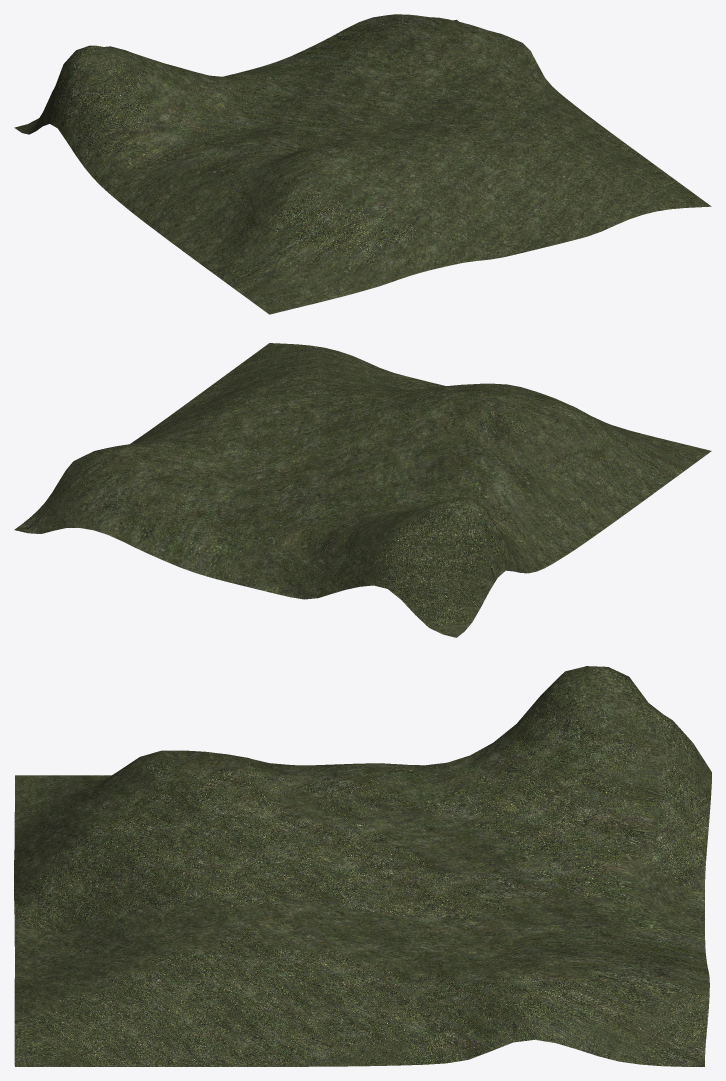
File: terrain.fbx
3 renders of one model, top to bottom at view 1: azimuth 30°, elevation 25°; view 2: azimuth 150°, elevation 25°; view 3: azimuth 270°, elevation 25°, orthographic. The views are drawn at different scales.
Parts seen in each view (by area): view 1: Plane; view 2: Plane; view 3: Plane.
Part boxes in pixels (bbox=[...]): Plane: bbox=[14, 14, 711, 314]; Plane: bbox=[14, 343, 711, 637]; Plane: bbox=[14, 666, 711, 1066].
Bounding box in the file's own units: 609 × 126 × 607.
Materials: 1 (1 with a texture image).
